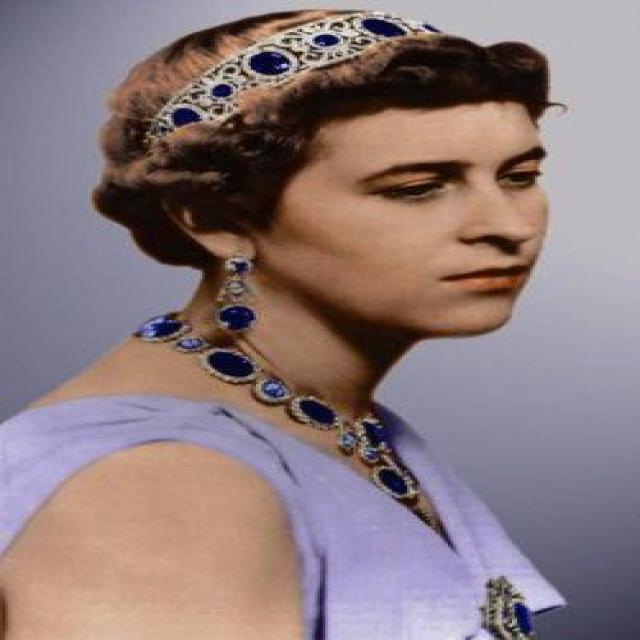Earring: (206, 245, 262, 342)
